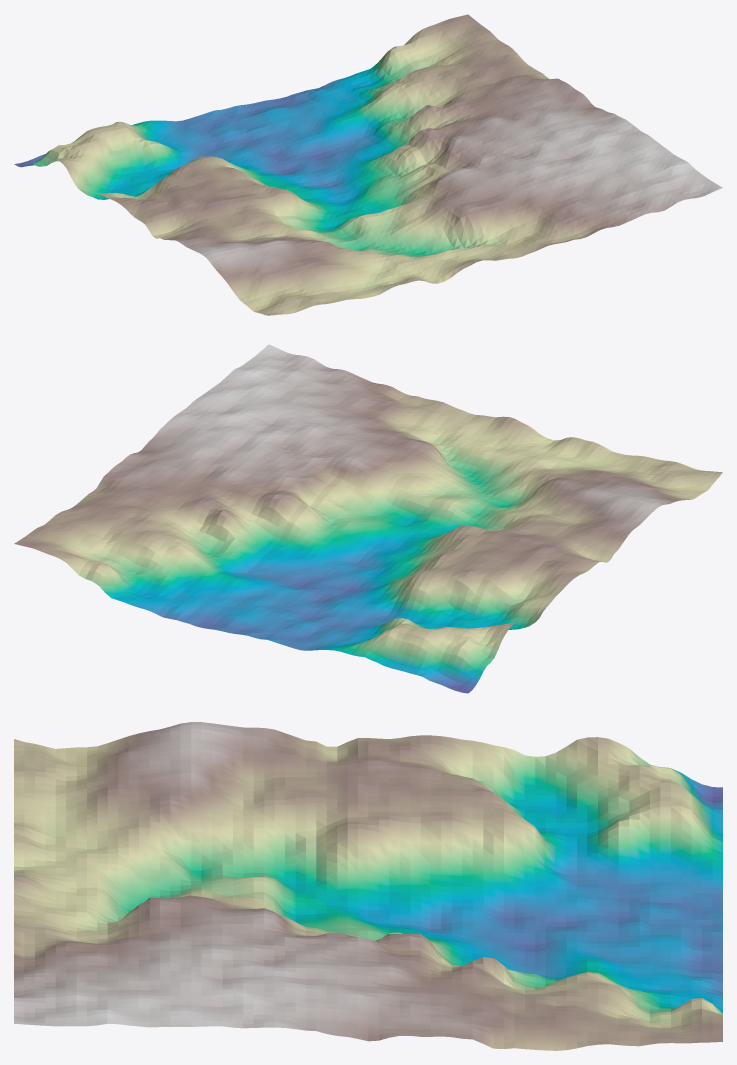
The model's file is 001306_terrain_only.glb.
The picture shows the model from 3 angles, top to bottom: view 1: azimuth 30°, elevation 25°; view 2: azimuth 150°, elevation 25°; view 3: azimuth 270°, elevation 25°; orthographic projection. The views are drawn at different scales.
Visible parts, largest first — view 1: terrain; view 2: terrain; view 3: terrain.
Boxes of the visible parts, x1,y1,x2,y2 form: terrain: [14, 14, 722, 315]; terrain: [14, 344, 722, 693]; terrain: [14, 722, 722, 1050].
Bounding box in the file's own units: 0.0189 × 0.00213 × 0.0183.
